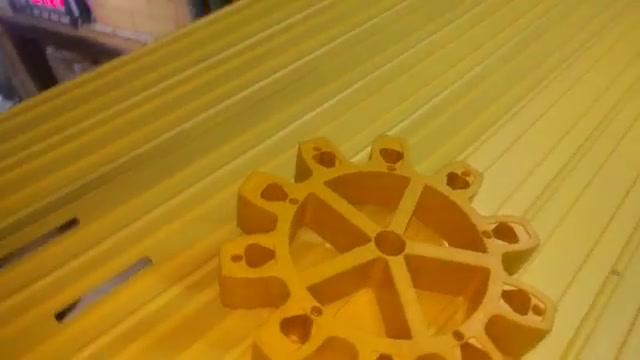gear: (203, 119, 558, 360)
